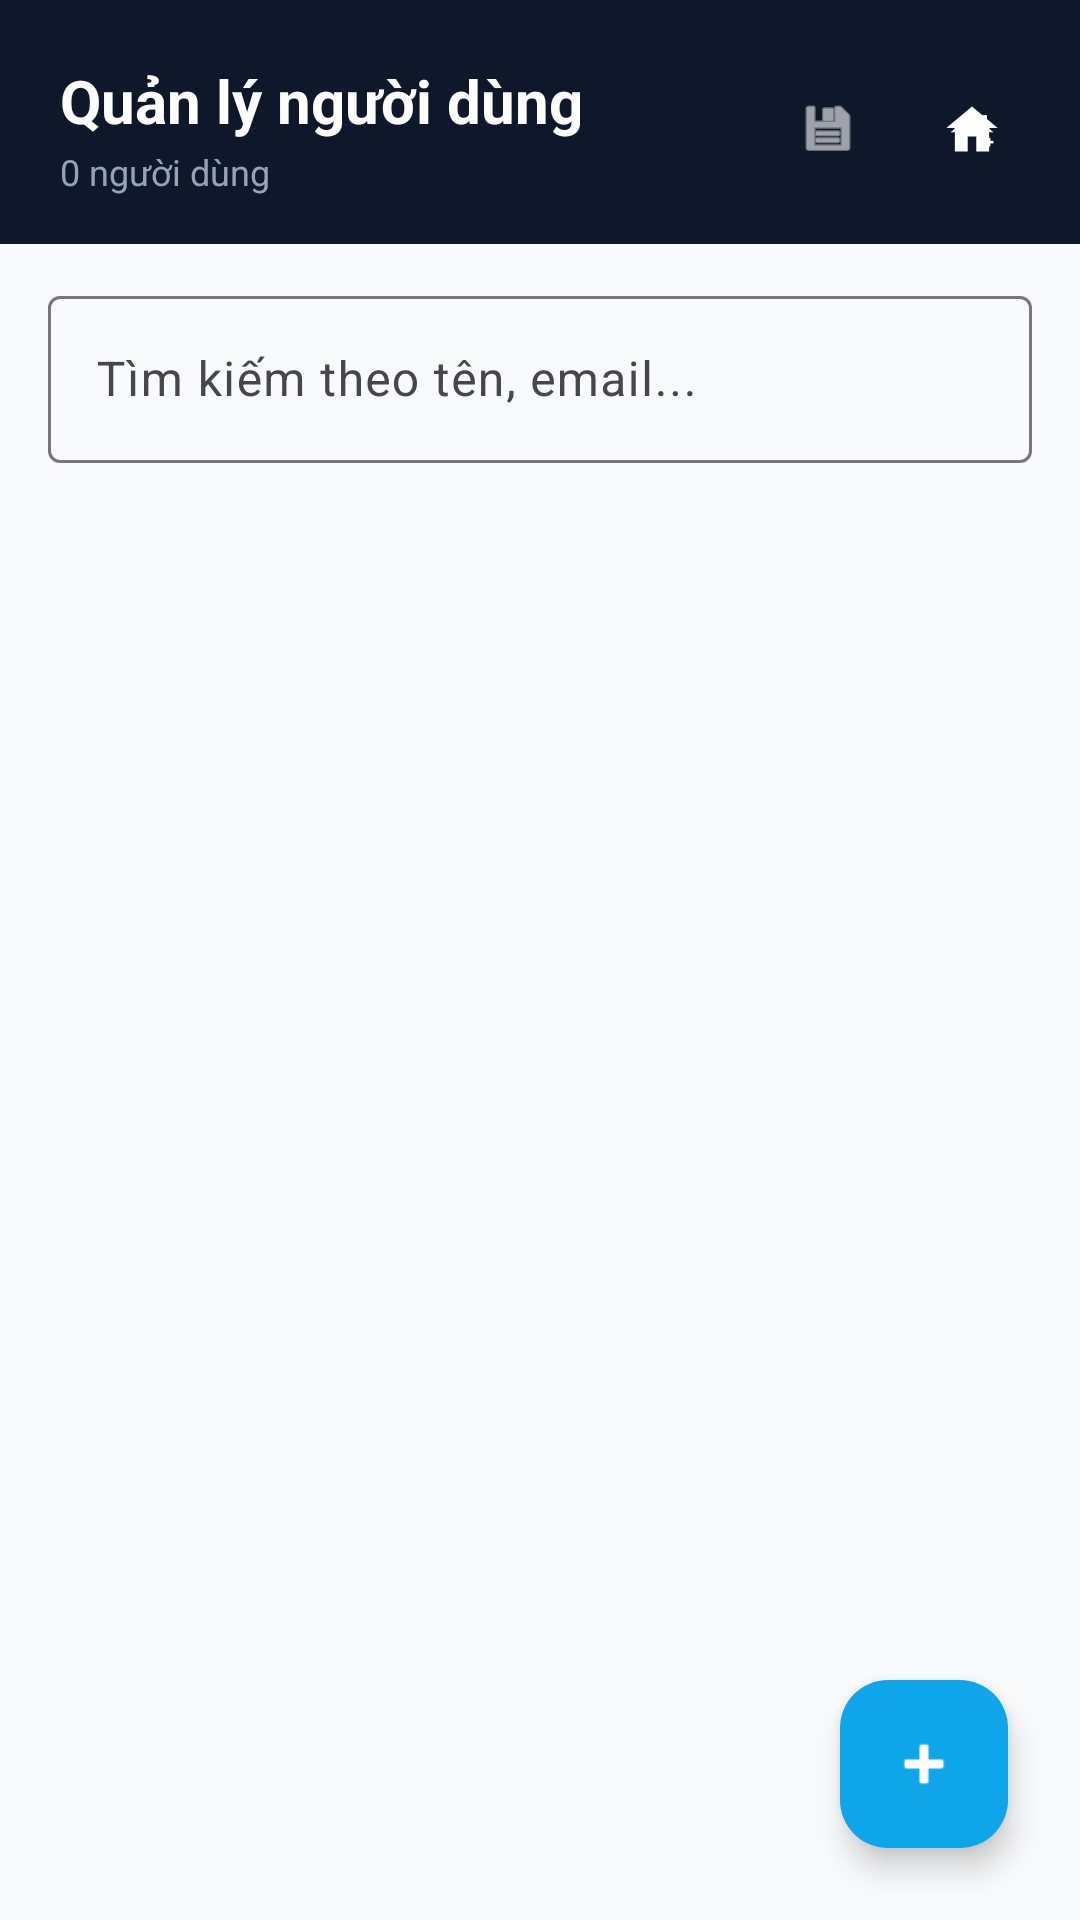

Named icons in this screenshot (1080×1920) and their centers, point (x, y):
Thêm người dùng: point (924, 1764)
